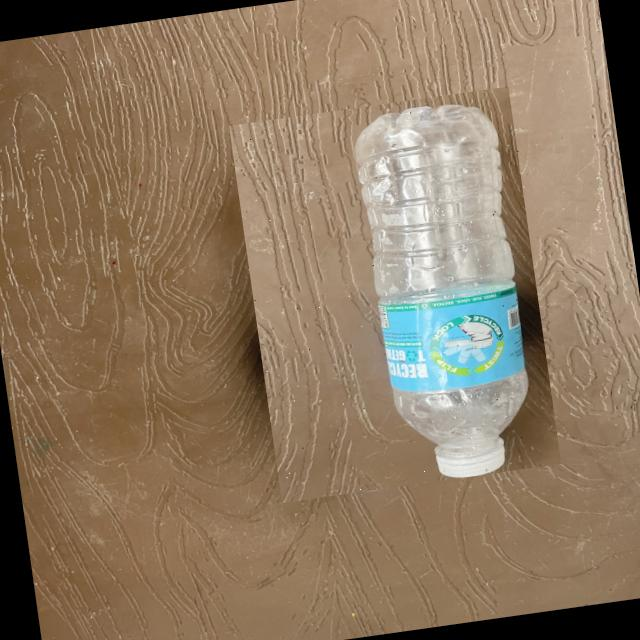REJECT: (230, 86, 564, 503)
